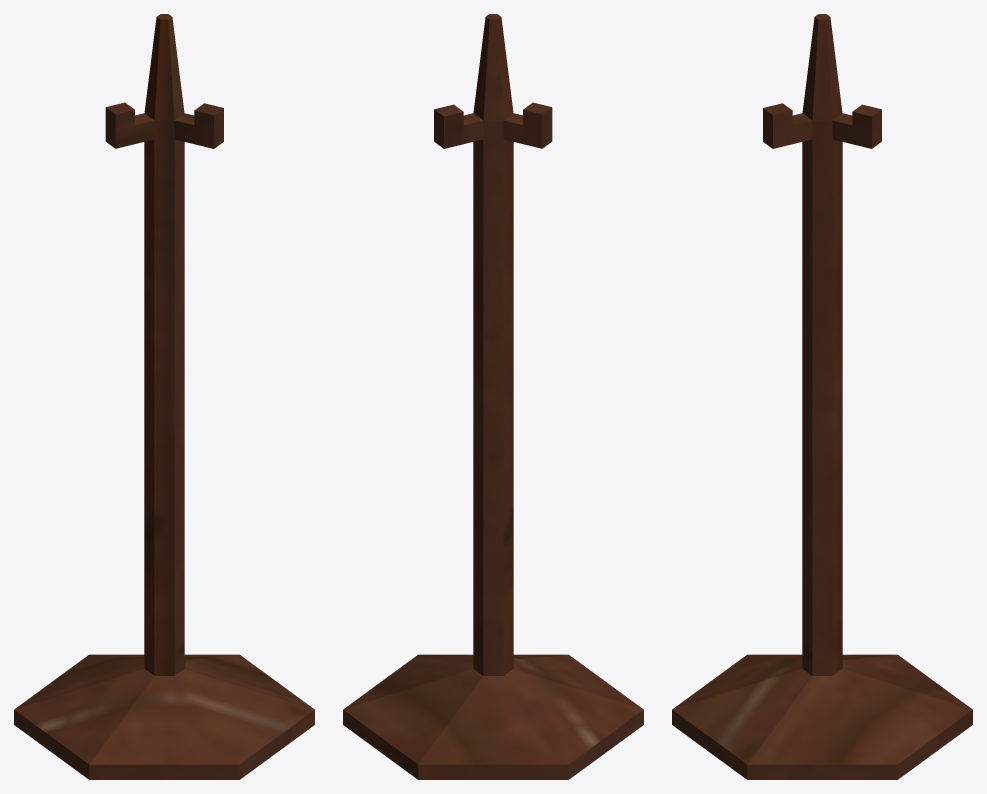
File: stand.fbx
3 views of the same model, side by side, from view 1: azimuth 30°, elevation 25°; view 2: azimuth 150°, elevation 25°; view 3: azimuth 270°, elevation 25° (orthographic).
Parts seen in each view (by area): view 1: Cylinder.003; view 2: Cylinder.003; view 3: Cylinder.003.
Boxes of the visible parts, <box> form: Cylinder.003: <box>14,14,314,779</box>; Cylinder.003: <box>343,14,643,779</box>; Cylinder.003: <box>672,14,972,779</box>.
Size of the model in its own units: 68.52 by 206 by 79.12.
